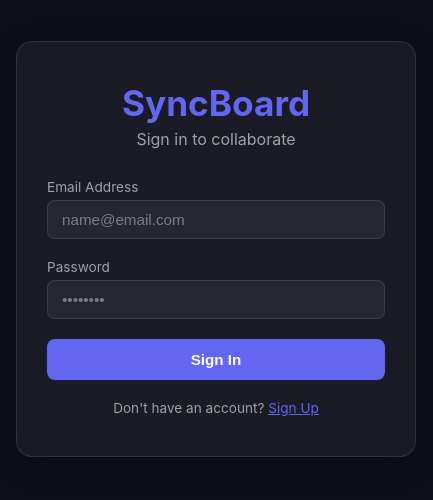
Login Page Tests › shows error when email and password are empty
Click the button "Sign In". click: (216, 360)
box: [47,339,385,380]
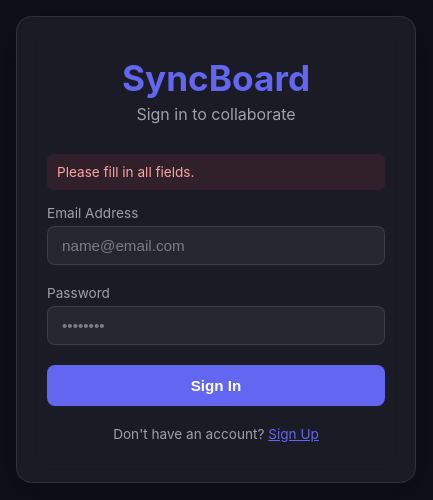
Result: the text "Please fill in all fields." is shown at [47,154,385,190]
